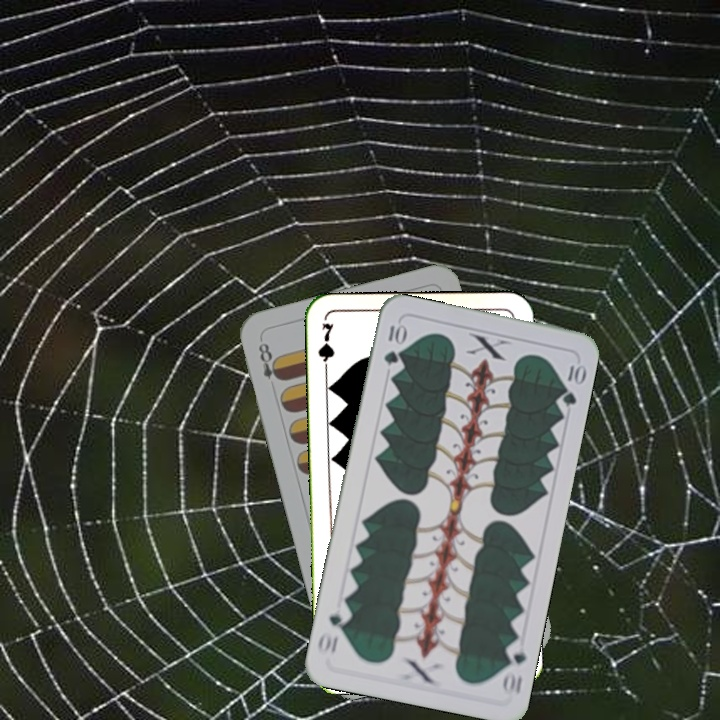E8: (254, 336, 285, 384)
G10: (498, 638, 529, 696), (380, 319, 407, 368)
G7: (314, 319, 337, 378)
